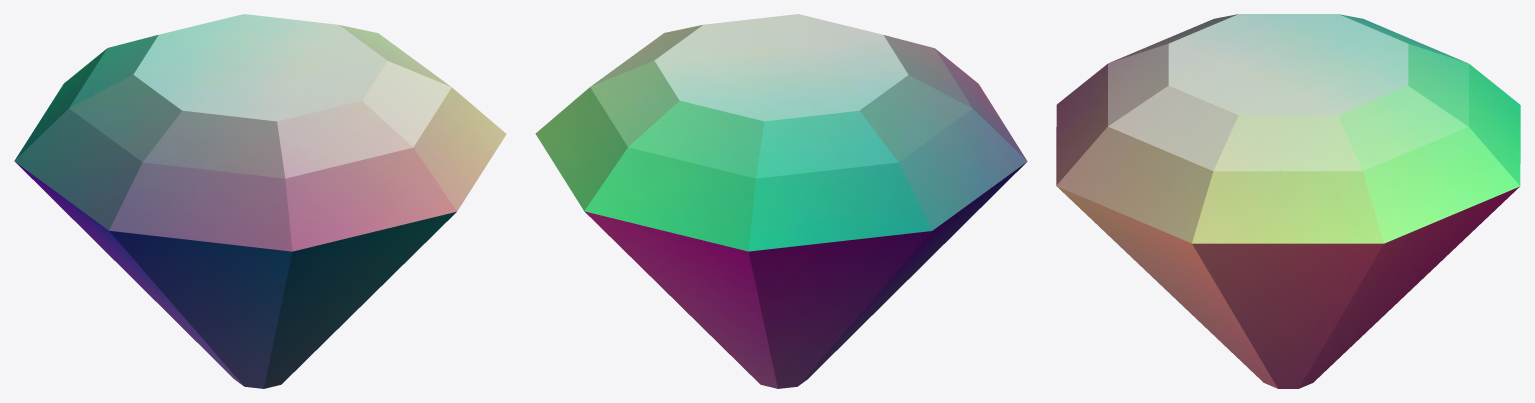
Rendered from Diamond_6.fbx.
3 renders of one model, left to right at view 1: azimuth 30°, elevation 25°; view 2: azimuth 150°, elevation 25°; view 3: azimuth 270°, elevation 25°, orthographic.
Visible parts, largest first — view 1: Diamond_6; view 2: Diamond_6; view 3: Diamond_6.
Part boxes in pixels (x1,y1,x2,y2): Diamond_6: (14,14,506,388); Diamond_6: (535,14,1027,388); Diamond_6: (1056,14,1520,388).
Size of the model in its own units: 123 by 91.48 by 123.
